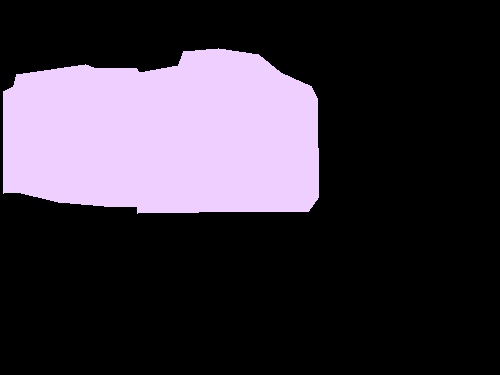Train: (3, 48, 319, 214)
